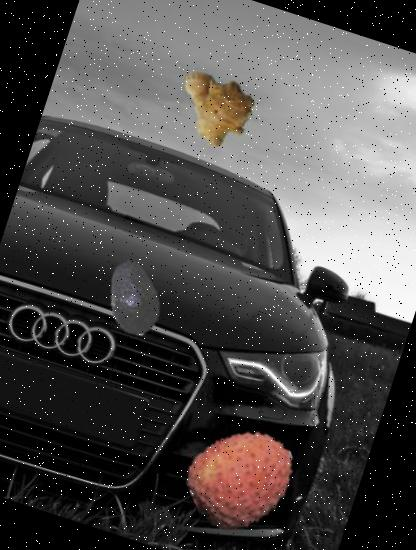Avocado: (86, 250, 183, 346)
Ginger: (160, 56, 263, 158)
Lychee: (176, 412, 312, 548)
